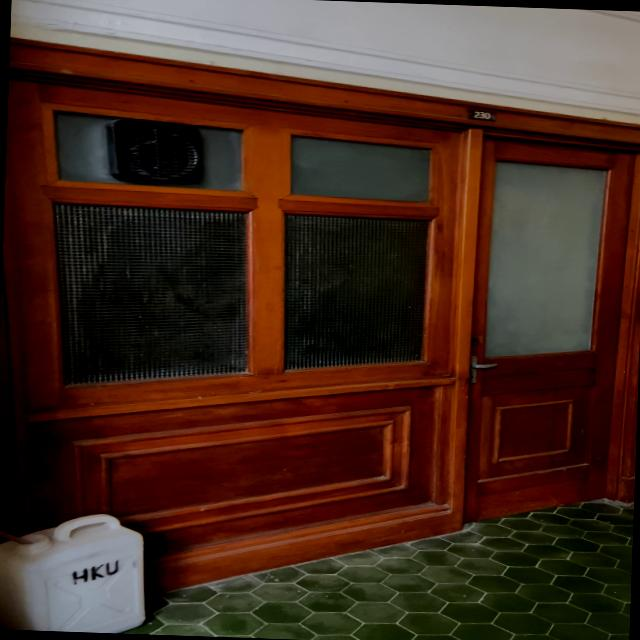room230: (465, 109, 497, 122)
